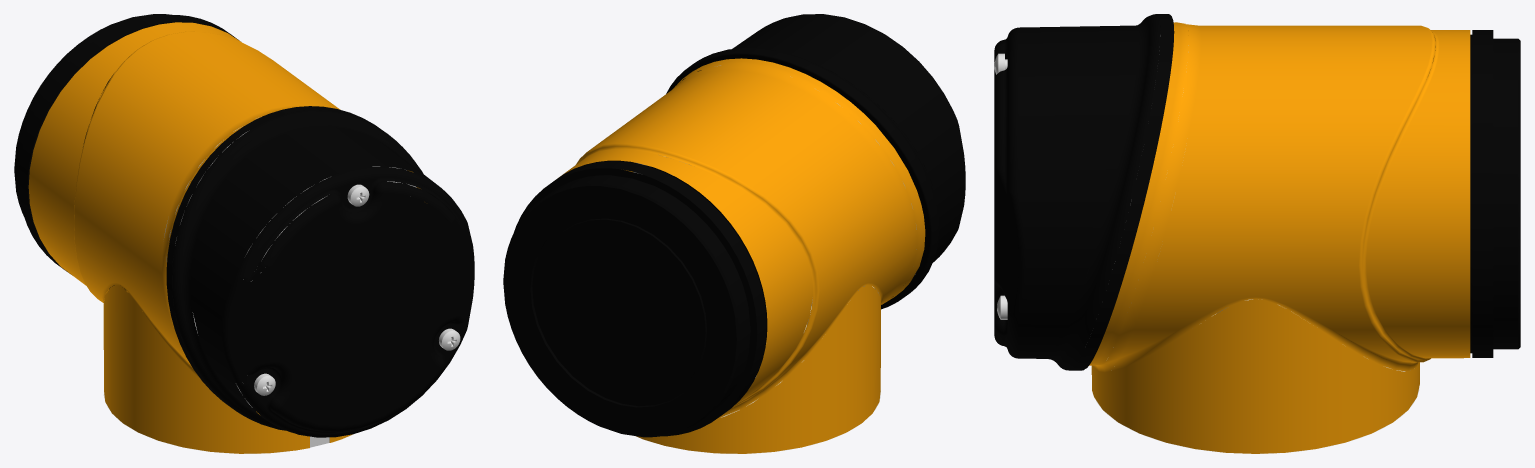
The model's file is wrist1_Link.DAE.
3 renders of one model, left to right at view 1: azimuth 30°, elevation 25°; view 2: azimuth 150°, elevation 25°; view 3: azimuth 270°, elevation 25°, orthographic. The views are drawn at different scales.
Parts seen in each view (by area): view 1: NONE-DC_Shell_ncl1_4, NONE-DC_Shell, NONE-DC_Shell_ncl1_3; view 2: NONE-DC_Shell, NONE-DC_Shell_ncl1_3, NONE-DC_Shell_ncl1_4; view 3: NONE-DC_Shell, NONE-DC_Shell_ncl1_4, NONE-DC_Shell_ncl1_3.
Part boxes in pixels (x1,y1,x2,y2): NONE-DC_Shell_ncl1_4: [166, 106, 474, 437]; NONE-DC_Shell: [28, 22, 420, 453]; NONE-DC_Shell_ncl1_3: [14, 14, 263, 289]; NONE-DC_Shell: [558, 58, 925, 453]; NONE-DC_Shell_ncl1_3: [503, 160, 767, 437]; NONE-DC_Shell_ncl1_4: [666, 14, 965, 309]; NONE-DC_Shell: [1089, 22, 1470, 453]; NONE-DC_Shell_ncl1_4: [994, 14, 1174, 370]; NONE-DC_Shell_ncl1_3: [1470, 30, 1520, 357].
Size of the model in its own units: 81.45 by 120 by 88.98.
